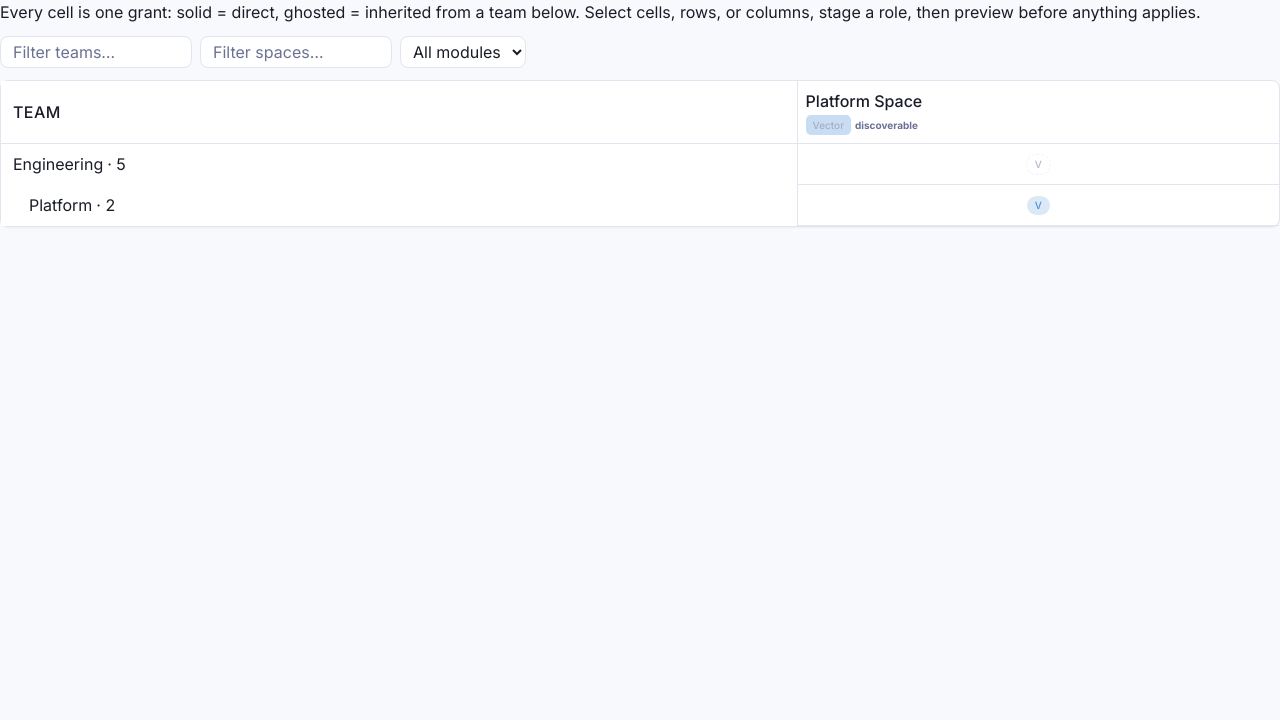
Test case: AccessMatrixPage › echoes the recorded ticket_ref on the confirmation surface after apply
Click the button with test id "matrix-cell-team-parent-space-1": (1038, 164) [806,148,1271,180]
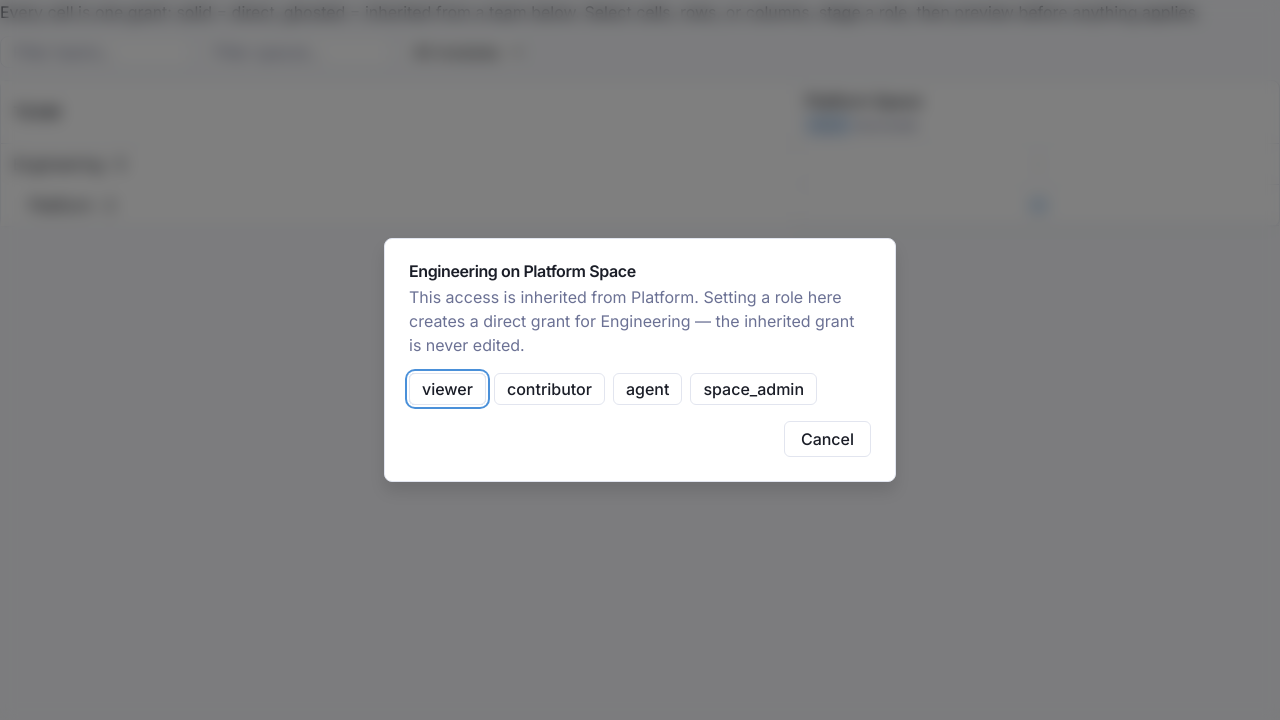
Click the button with test id "matrix-editor-role-agent": (648, 389) [613,373,682,405]
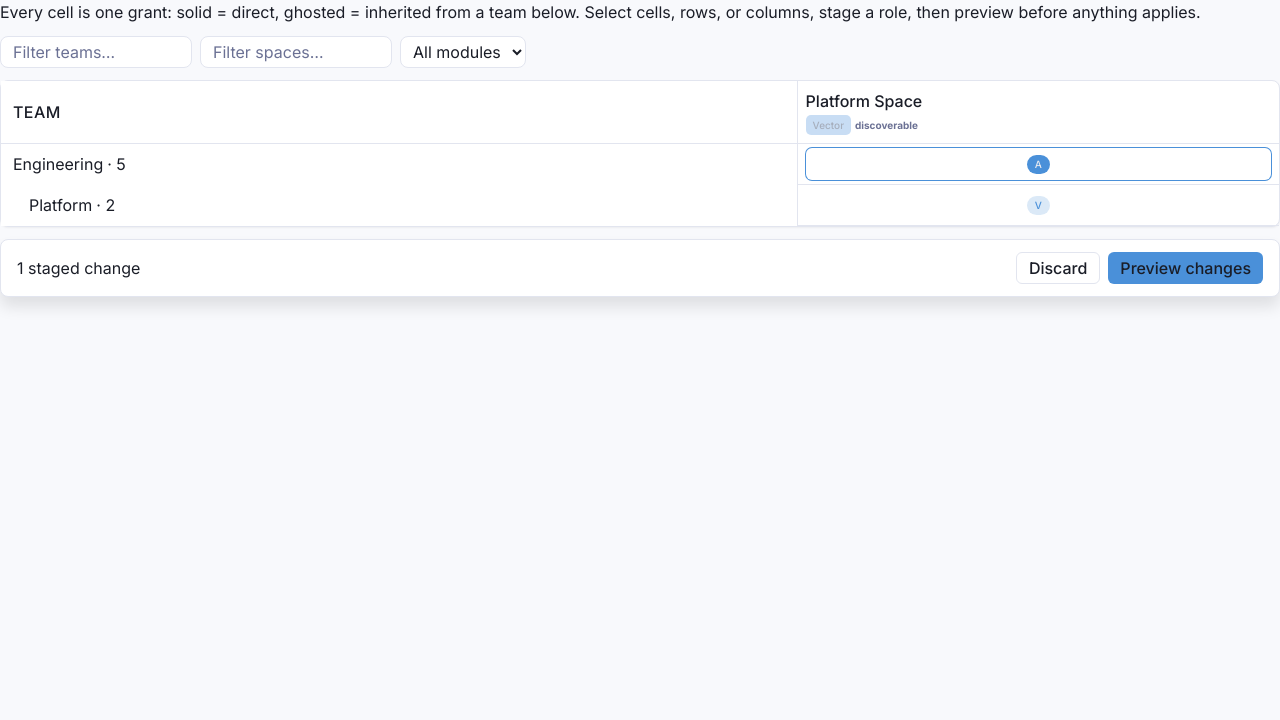
Click the button with test id "matrix-preview-button": (1186, 268) [1108,252,1263,284]
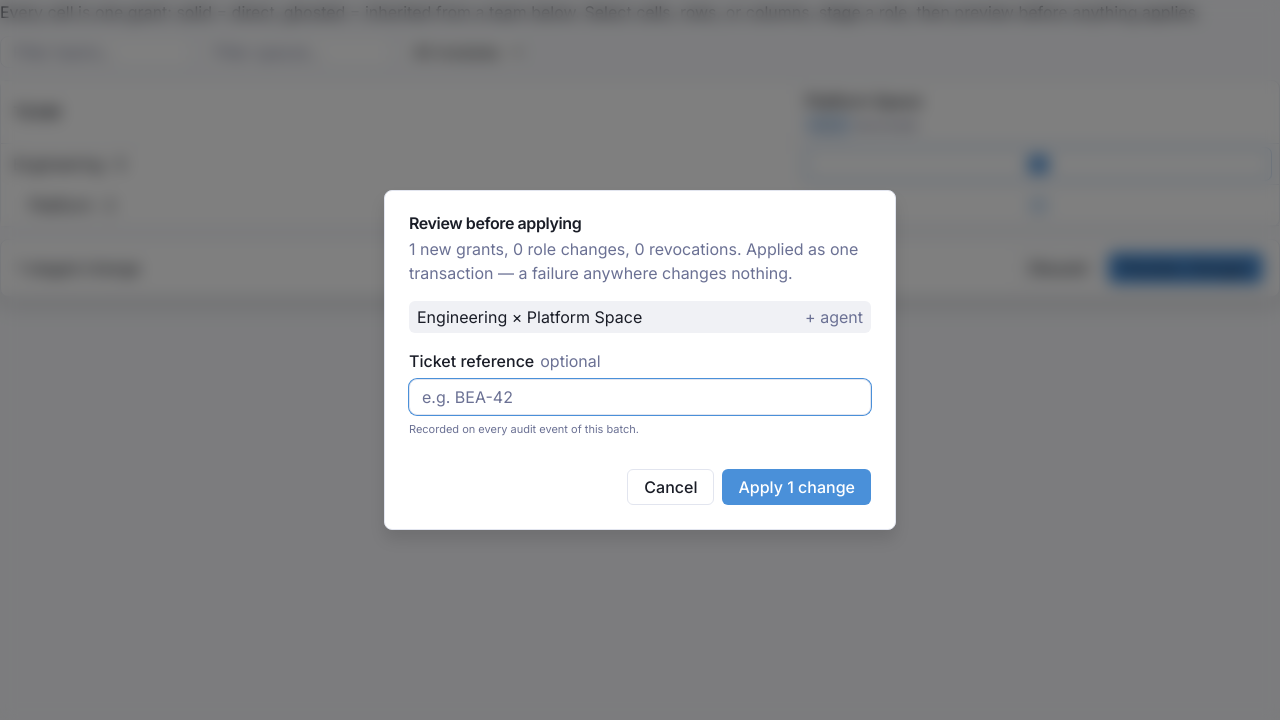
In the dropdown with test id "matrix-ticket-ref": (640, 397) [409,379,871,415], type "BEA-42"
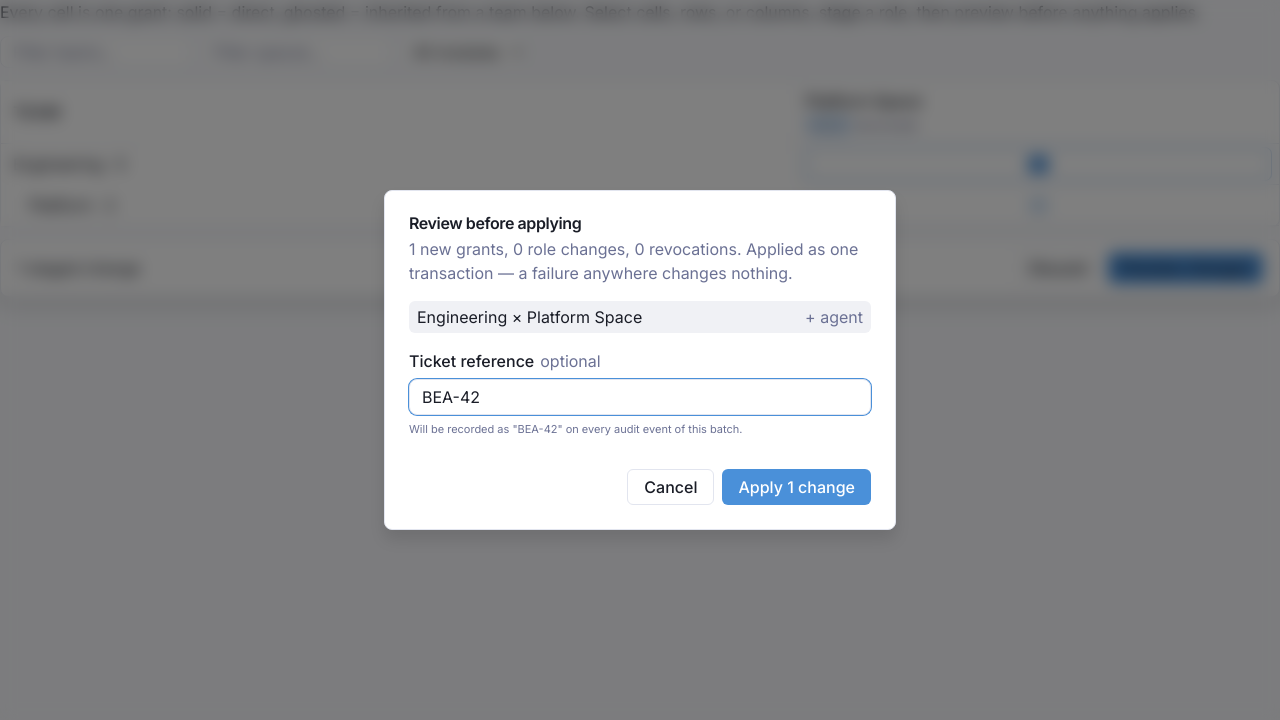
Click the button with test id "matrix-apply-button": (797, 487) [722,469,871,505]
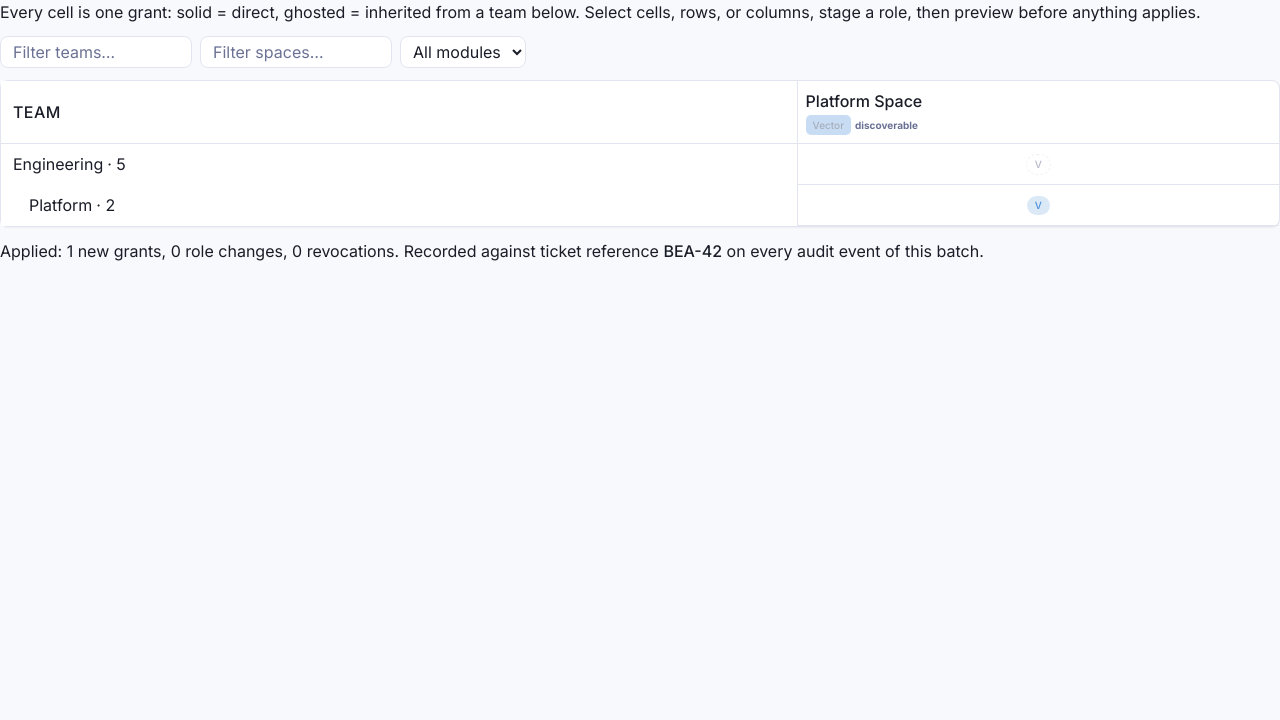
Now the text with test id "matrix-applied-ticket-ref" reads "BEA-42", box [663,241,722,261]
Now the element with test id "matrix-applied-note" shows "BEA-42", box [663,241,722,261]
